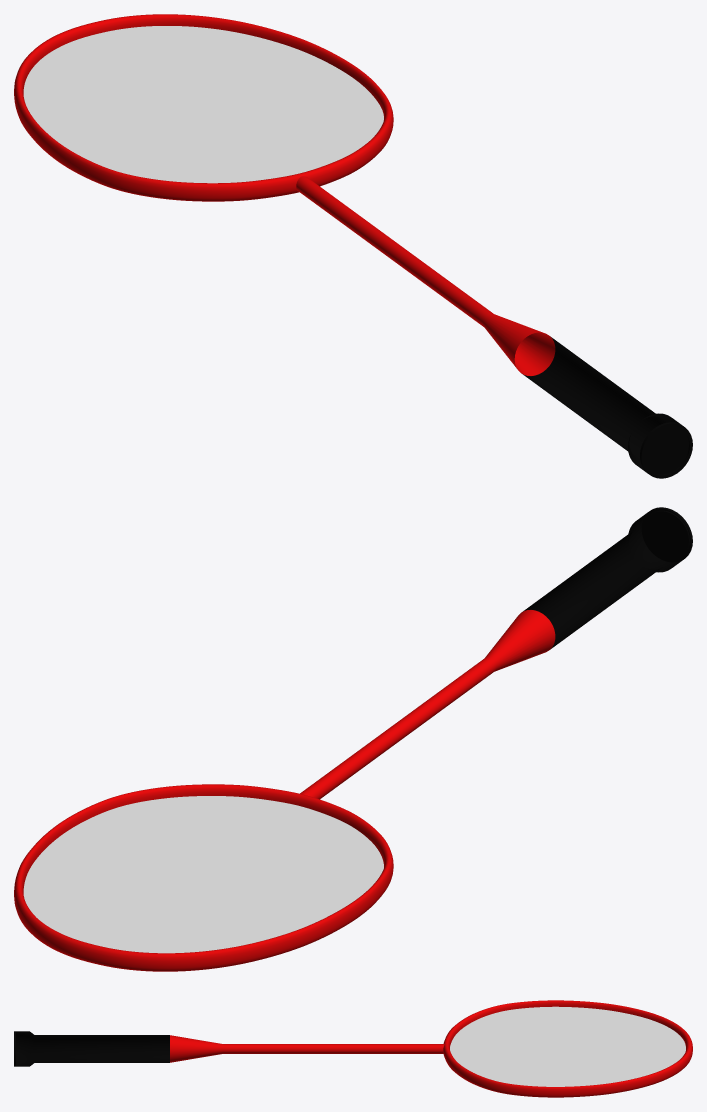
The model's file is raquete_plane.fbx.
3 renders of one model, top to bottom at view 1: azimuth 30°, elevation 25°; view 2: azimuth 150°, elevation 25°; view 3: azimuth 270°, elevation 25°, orthographic. The views are drawn at different scales.
Parts seen in each view (by area): view 1: Plane.001, Circle.001, Circle, Circle.002, Circle.003; view 2: Plane.001, Circle.001, Circle, Circle.002, Circle.003; view 3: Plane.001, Circle.001, Circle.002, Circle.
Part boxes in pixels (box(x1,y1,x2,y2)): Plane.001: box(23, 26, 383, 183); Circle.001: box(14, 14, 393, 201); Circle: box(296, 176, 555, 375); Circle.002: box(523, 336, 681, 472); Circle.003: box(640, 422, 692, 478); Plane.001: box(23, 796, 383, 953); Circle.001: box(14, 784, 393, 971); Circle: box(300, 610, 555, 799); Circle.002: box(523, 513, 681, 649); Circle.003: box(640, 507, 692, 563); Plane.001: box(450, 1006, 685, 1086); Circle.001: box(443, 1000, 692, 1097); Circle.002: box(16, 1031, 169, 1066); Circle: box(170, 1035, 444, 1062).
Size of the model in its own units: 20.97 by 3.5 by 67.81.
